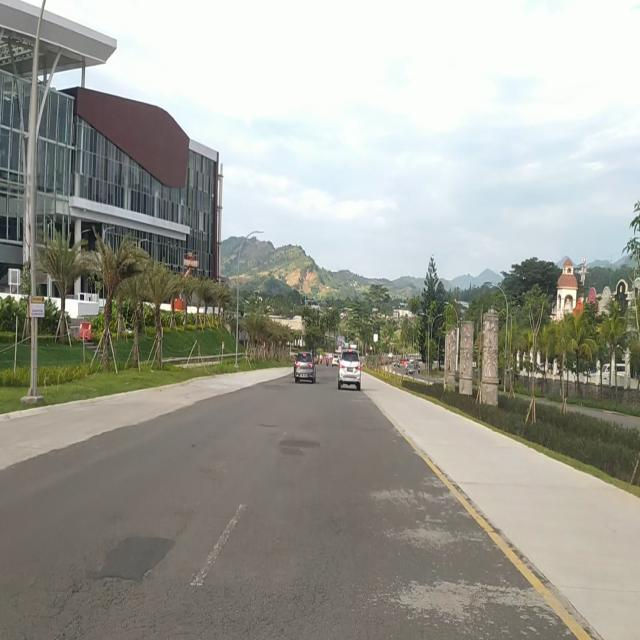Drain Hole: (44, 575, 154, 640)
